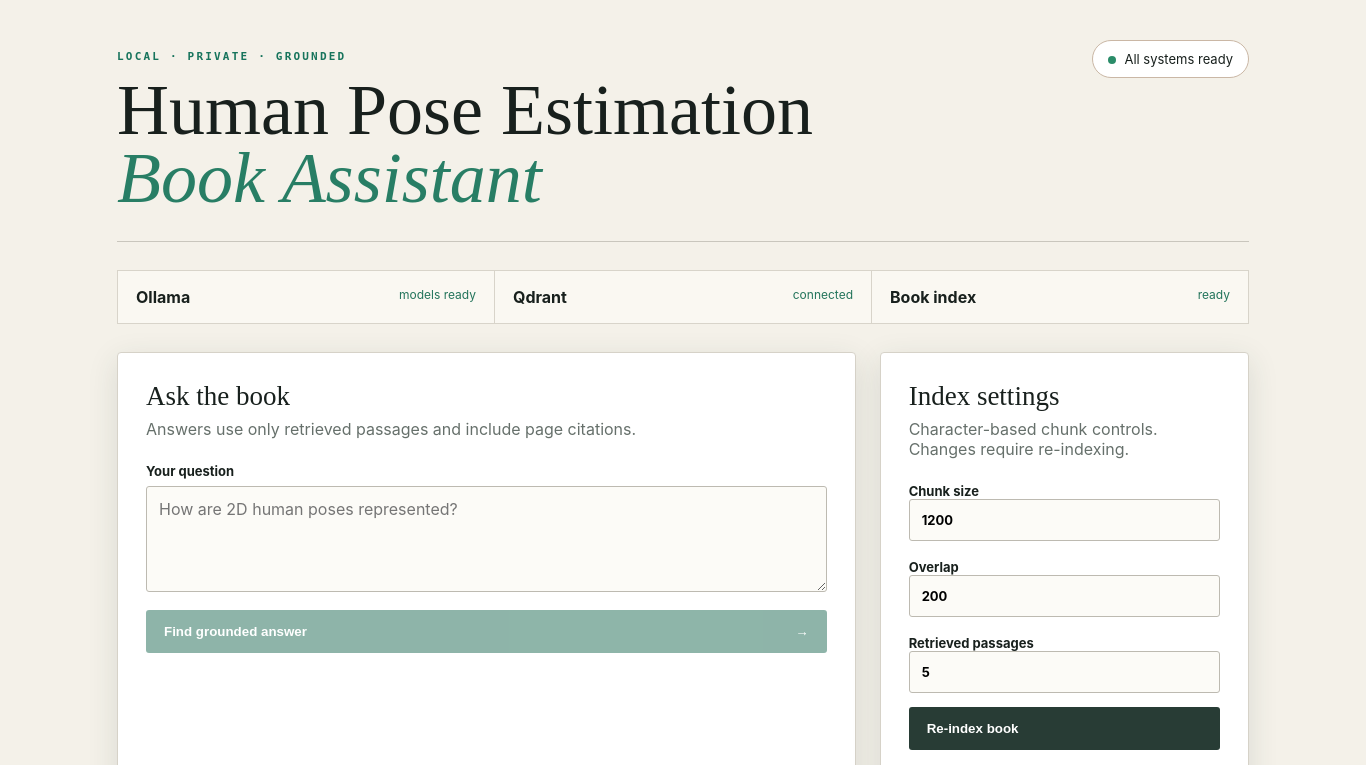
Scenario: renders an insufficient-context completion without citations
Expected: the text "All systems ready" is shown, [1092,40,1249,78]
Type "Which medicine should I take?" into the text box labelled "Your question" at (486,539), box [146,486,827,592]
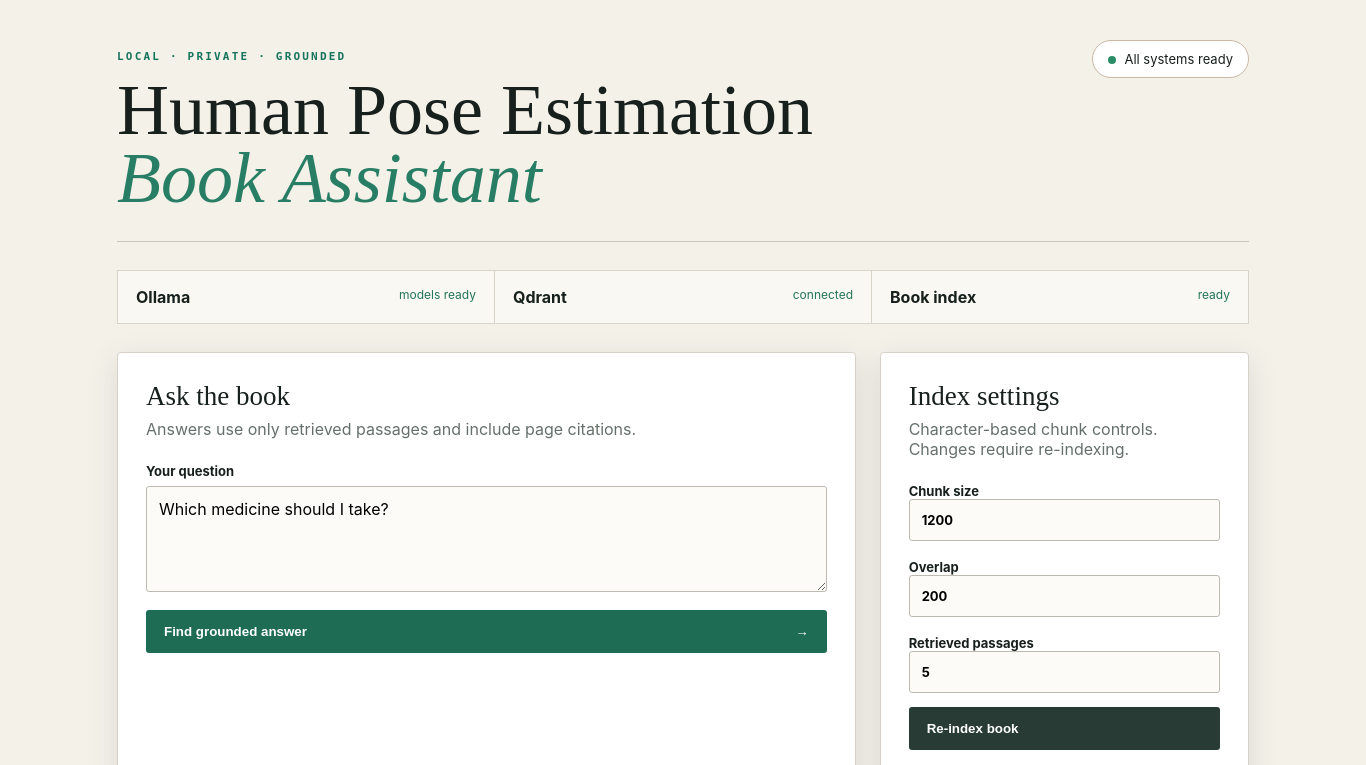
Click the button "Find grounded answer →" at (235,631), box [146,610,827,653]
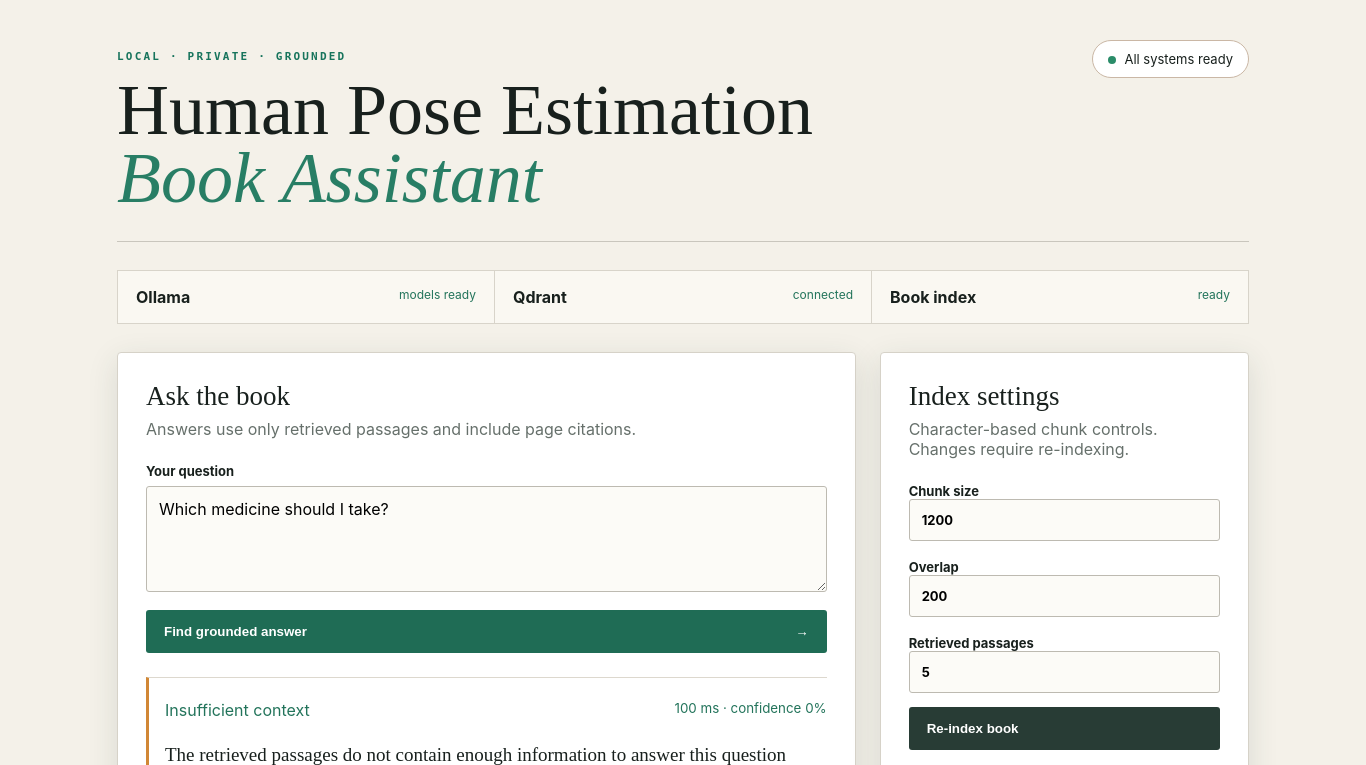
Expected: the text "Insufficient context" is shown, [165,700,310,720]
